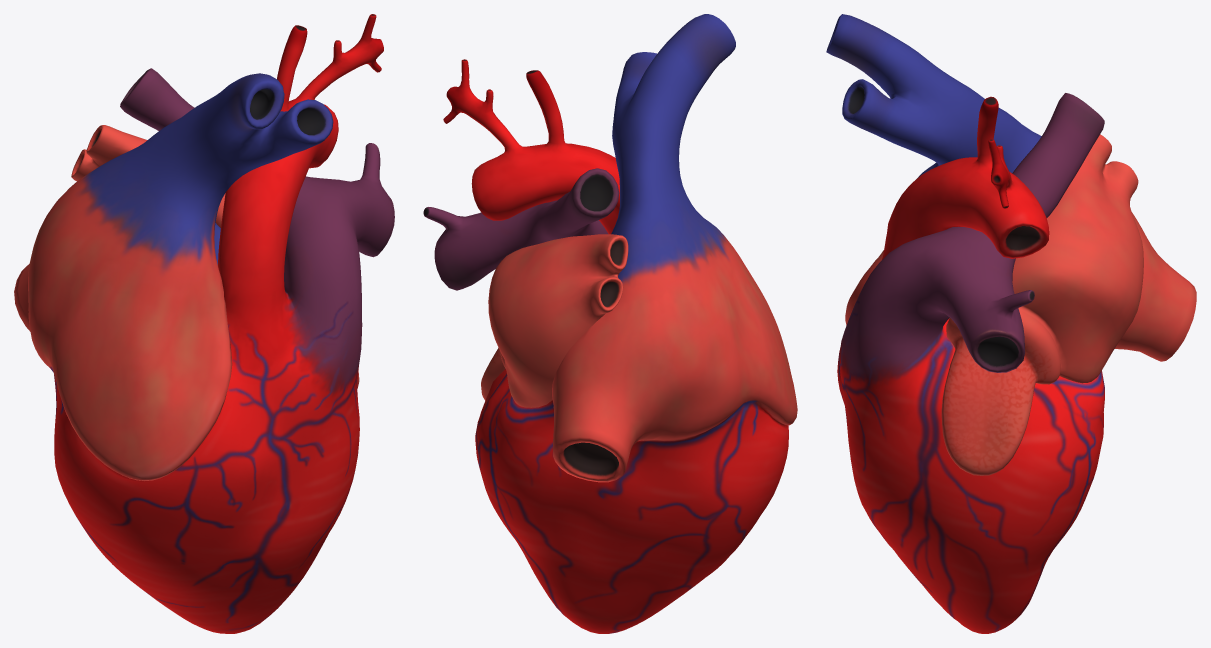
File: heart.glb
3 renders of one model, left to right at view 1: azimuth 30°, elevation 25°; view 2: azimuth 150°, elevation 25°; view 3: azimuth 270°, elevation 25°, orthographic. The views are drawn at different scales.
Visible parts, largest first — view 1: node_id38; view 2: node_id38; view 3: node_id38.
Part boxes in pixels (x1,y1,x2,y2): node_id38: (14,14,394,633); node_id38: (423,14,797,633); node_id38: (826,14,1196,633).
Bounding box in the file's own units: 0.3036 × 0.512 × 0.2899.
1 material, 1 textured.
